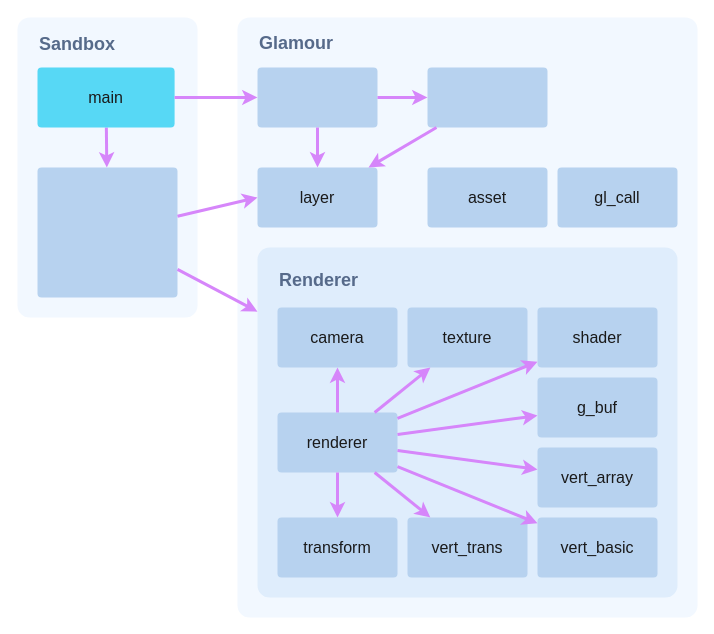
The diagram is 714 pixels wide and 634 high, and some of its shapes have lost their labels. Here are the shapes that lost their labels. From the top down, the box of each, then its label:
(257, 67, 377, 127): app
(427, 67, 547, 127): perf_metrics
(37, 167, 177, 297): sandbox_layer
